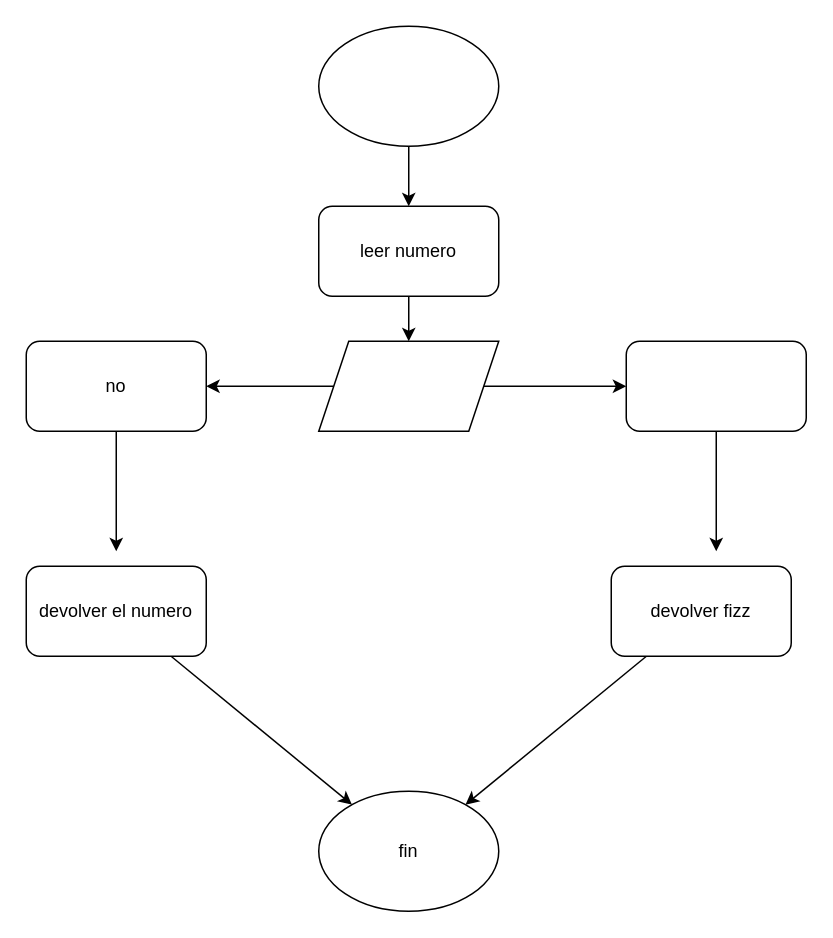
The diagram is 833 pixels wide and 938 high, and some of its shapes have lost their labels. The centre of each missing label's shape, as x and y in pixels:
inicio: (408,85)
numero %3== 0: (408,385)
si: (715,385)
